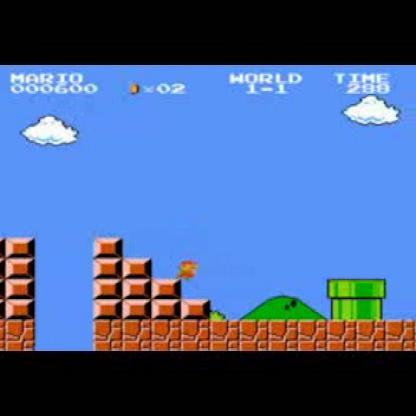Hoyo: (30, 318, 98, 351)
